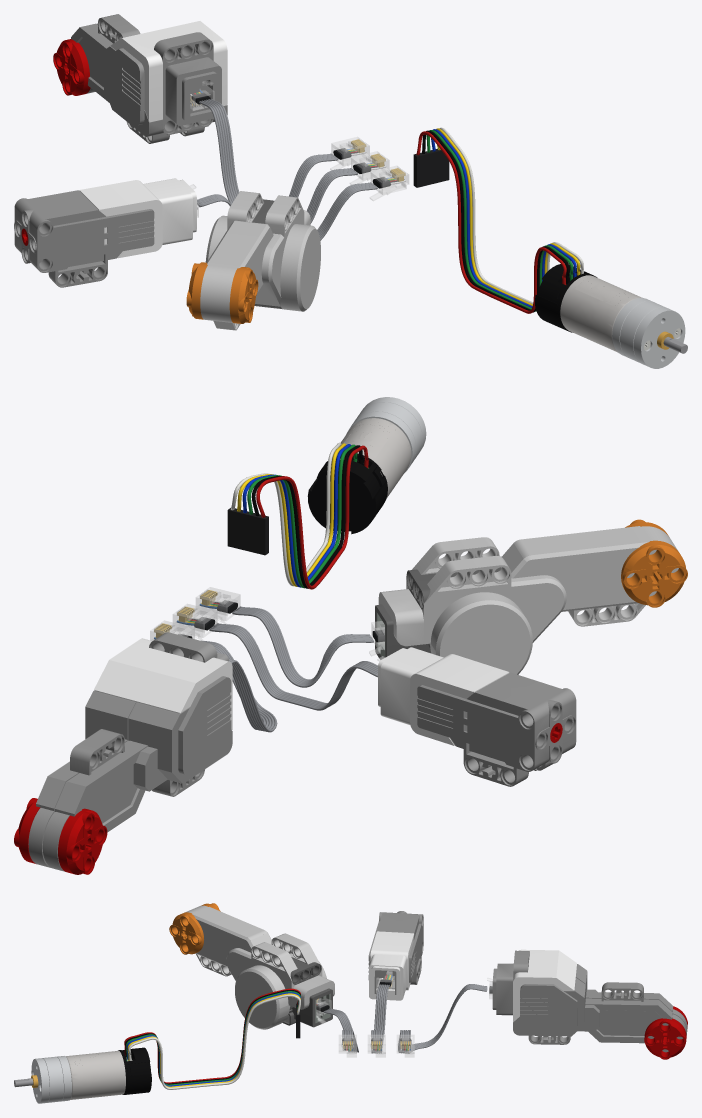
The model's file is scene_motors.glb.
3 views of the same model, one above another, from view 1: azimuth 30°, elevation 25°; view 2: azimuth 150°, elevation 25°; view 3: azimuth 270°, elevation 25° (orthographic). The views are drawn at different scales.
Visible parts, largest first — view 1: lego_motors_0_95658, lego_motors_1_99455, lego_motors_2_53787, lego_motors_3_pololu_25d, lego_motors_cable_motor_m1, lego_motors_hdr_motor_m4_wire0, lego_motors_hdr_motor_m4_housing, lego_motors_hdr_motor_m4_wire1, lego_motors_hdr_motor_m4_wire2, lego_motors_hdr_motor_m4_wire3, lego_motors_cable_motor_m2, lego_motors_hdr_motor_m4_wire4 (+5 smaller); view 2: lego_motors_2_53787, lego_motors_0_95658, lego_motors_1_99455, lego_motors_3_pololu_25d, lego_motors_cable_motor_m2, lego_motors_cable_motor_m3, lego_motors_hdr_motor_m4_housing, lego_motors_hdr_motor_m4_wire0, lego_motors_cable_motor_m1, lego_motors_hdr_motor_m4_wire1, lego_motors_hdr_motor_m4_wire2, lego_motors_hdr_motor_m4_wire3 (+4 smaller); view 3: lego_motors_0_95658, lego_motors_2_53787, lego_motors_3_pololu_25d, lego_motors_1_99455, lego_motors_hdr_motor_m4_wire5, lego_motors_cable_motor_m1, lego_motors_cable_motor_m2, lego_motors_cable_motor_m3, lego_motors_hdr_motor_m4_wire0, lego_motors_hdr_motor_m4_wire3, lego_motors_hdr_motor_m4_wire4, lego_motors_hdr_motor_m4_wire2 (+4 smaller).
Part boxes in pixels (left/top/right/bottom): lego_motors_0_95658: left=53, top=14, right=227, bottom=143; lego_motors_1_99455: left=14, top=178, right=196, bottom=287; lego_motors_2_53787: left=186, top=191, right=320, bottom=330; lego_motors_3_pololu_25d: left=535, top=264, right=687, bottom=368; lego_motors_cable_motor_m1: left=199, top=98, right=338, bottom=203; lego_motors_hdr_motor_m4_wire0: left=416, top=131, right=566, bottom=313; lego_motors_hdr_motor_m4_housing: left=413, top=148, right=449, bottom=187; lego_motors_hdr_motor_m4_wire1: left=422, top=130, right=569, bottom=312; lego_motors_hdr_motor_m4_wire2: left=426, top=130, right=573, bottom=311; lego_motors_hdr_motor_m4_wire3: left=431, top=129, right=576, bottom=307; lego_motors_cable_motor_m2: left=197, top=168, right=357, bottom=223; lego_motors_hdr_motor_m4_wire4: left=436, top=128, right=580, bottom=305; lego_motors_2_53787: left=375, top=519, right=687, bottom=674; lego_motors_0_95658: left=14, top=632, right=232, bottom=874; lego_motors_1_99455: left=378, top=647, right=576, bottom=786; lego_motors_3_pololu_25d: left=307, top=397, right=426, bottom=534; lego_motors_cable_motor_m2: left=209, top=623, right=377, bottom=710; lego_motors_cable_motor_m3: left=232, top=606, right=373, bottom=687; lego_motors_hdr_motor_m4_housing: left=227, top=508, right=268, bottom=555; lego_motors_hdr_motor_m4_wire0: left=256, top=445, right=368, bottom=589; lego_motors_cable_motor_m1: left=201, top=640, right=277, bottom=732; lego_motors_hdr_motor_m4_wire1: left=251, top=445, right=362, bottom=588; lego_motors_hdr_motor_m4_wire2: left=247, top=444, right=357, bottom=588; lego_motors_hdr_motor_m4_wire3: left=242, top=444, right=351, bottom=587; lego_motors_0_95658: left=492, top=949, right=687, bottom=1059; lego_motors_2_53787: left=169, top=903, right=334, bottom=1029; lego_motors_3_pololu_25d: left=14, top=1047, right=151, bottom=1103; lego_motors_1_99455: left=368, top=911, right=423, bottom=1000; lego_motors_hdr_motor_m4_wire5: left=128, top=994, right=300, bottom=1089; lego_motors_cable_motor_m1: left=398, top=984, right=487, bottom=1053; lego_motors_cable_motor_m2: left=371, top=984, right=389, bottom=1053; lego_motors_cable_motor_m3: left=323, top=1008, right=358, bottom=1052; lego_motors_hdr_motor_m4_wire0: left=124, top=988, right=300, bottom=1083; lego_motors_hdr_motor_m4_wire3: left=126, top=992, right=300, bottom=1086; lego_motors_hdr_motor_m4_wire4: left=127, top=993, right=300, bottom=1087; lego_motors_hdr_motor_m4_wire2: left=126, top=991, right=300, bottom=1085.
Bounding box in the file's own units: 1.97 × 0.5551 × 3.73.
